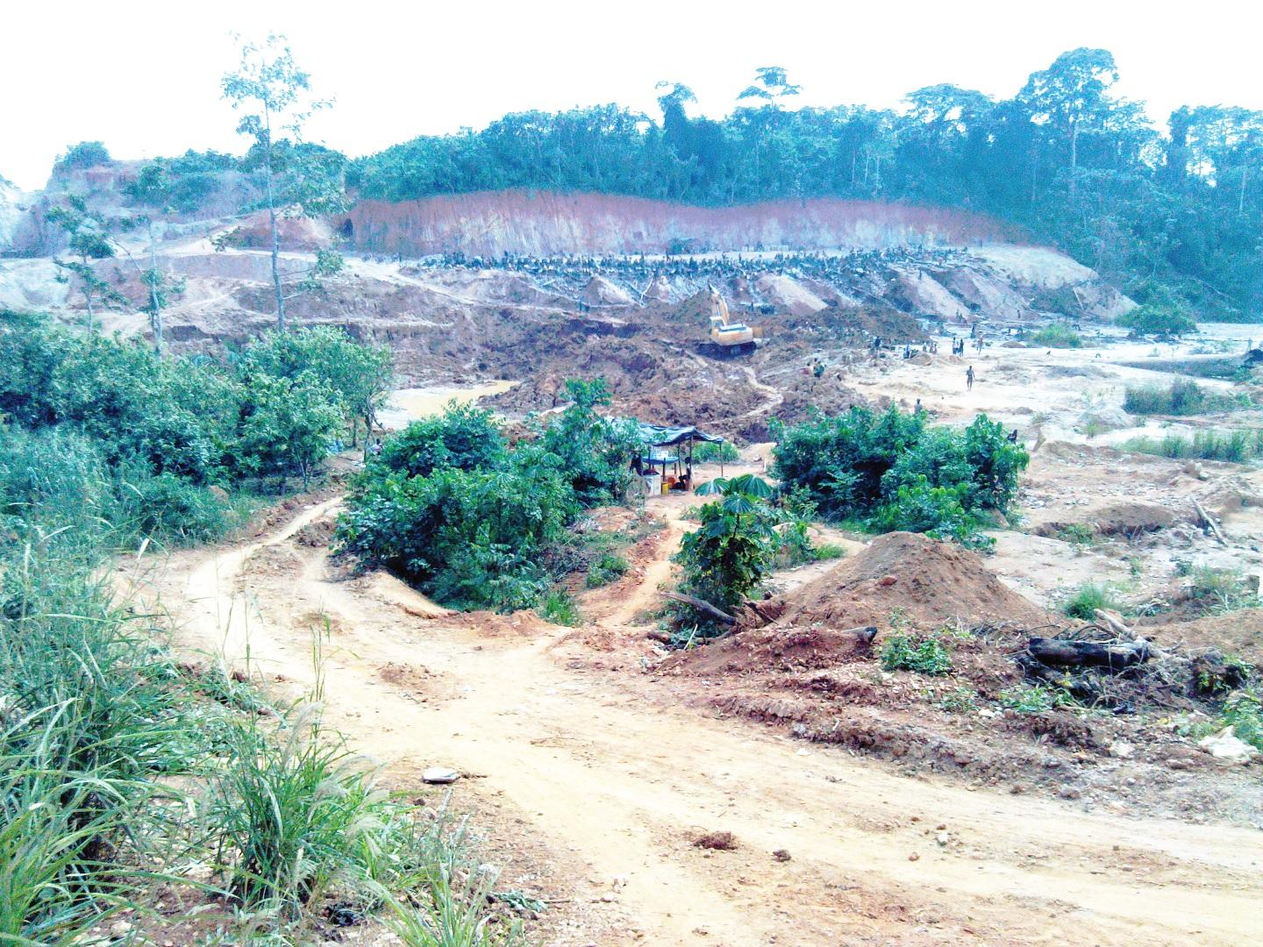ExcavationMachinery: (696, 284, 763, 358)
Person: (679, 457, 694, 489), (369, 438, 383, 454), (966, 365, 975, 389), (975, 336, 989, 350), (912, 398, 922, 414), (1007, 429, 1017, 445), (804, 361, 814, 377), (951, 336, 959, 354), (959, 339, 963, 356), (814, 360, 823, 367), (921, 340, 926, 351), (929, 343, 933, 353), (933, 345, 937, 353)
Structure: (609, 417, 724, 495), (641, 455, 676, 480)
